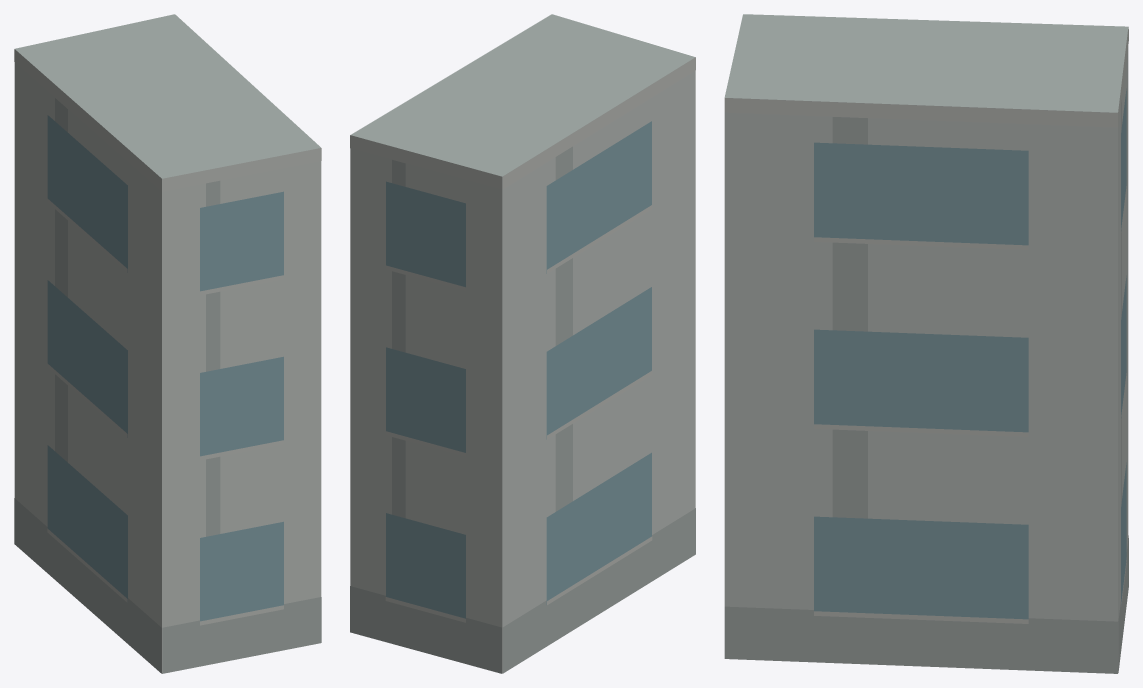
The model's file is survey-upis-32538373.glb.
The picture shows the model from 3 angles, left to right: view 1: azimuth 30°, elevation 25°; view 2: azimuth 150°, elevation 25°; view 3: azimuth 270°, elevation 25°; orthographic projection. The views are drawn at different scales.
Visible parts, largest first — view 1: survey-upis-32538373.tmp; view 2: survey-upis-32538373.tmp; view 3: survey-upis-32538373.tmp.
Part boxes in pixels (x1,y1,x2,y2): survey-upis-32538373.tmp: (14, 14, 321, 673); survey-upis-32538373.tmp: (350, 14, 695, 673); survey-upis-32538373.tmp: (724, 14, 1128, 673).
Bounding box in the file's own units: 3.46 × 9.15 × 5.98.
